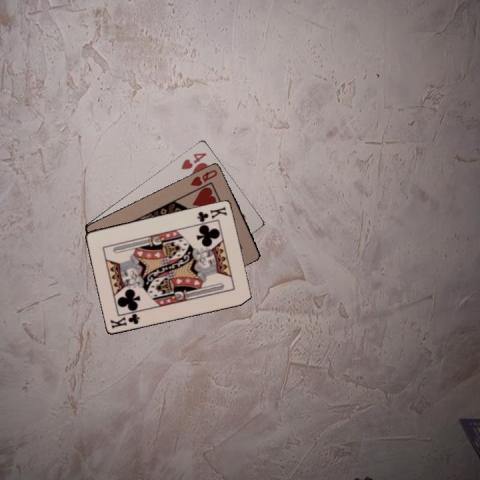4h: (178, 149, 208, 171)
Kc: (194, 203, 229, 223), (107, 310, 141, 329)
Qh: (186, 167, 218, 187)
